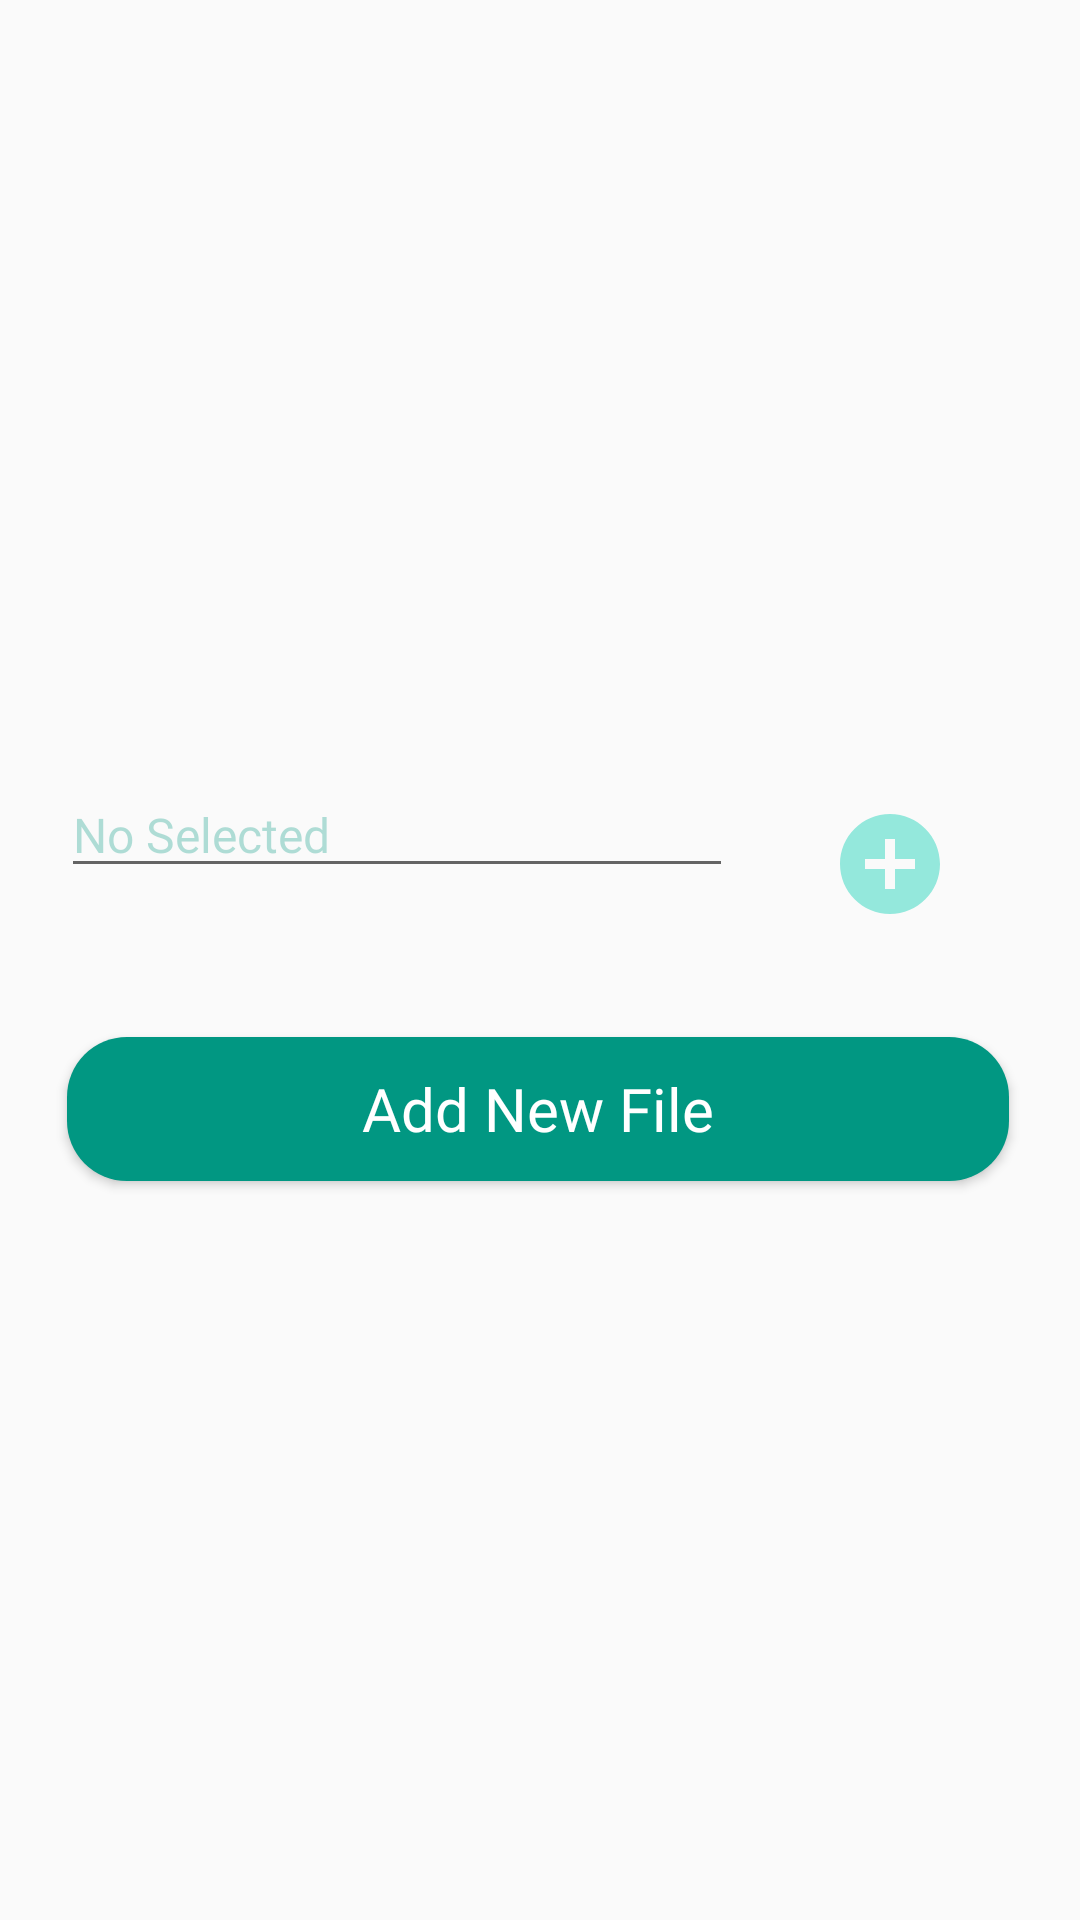

Icons on this 1080px×1920px Android screen, each with its box as (x1, y1, x2, y2):
add circle: (840, 814, 940, 914)
